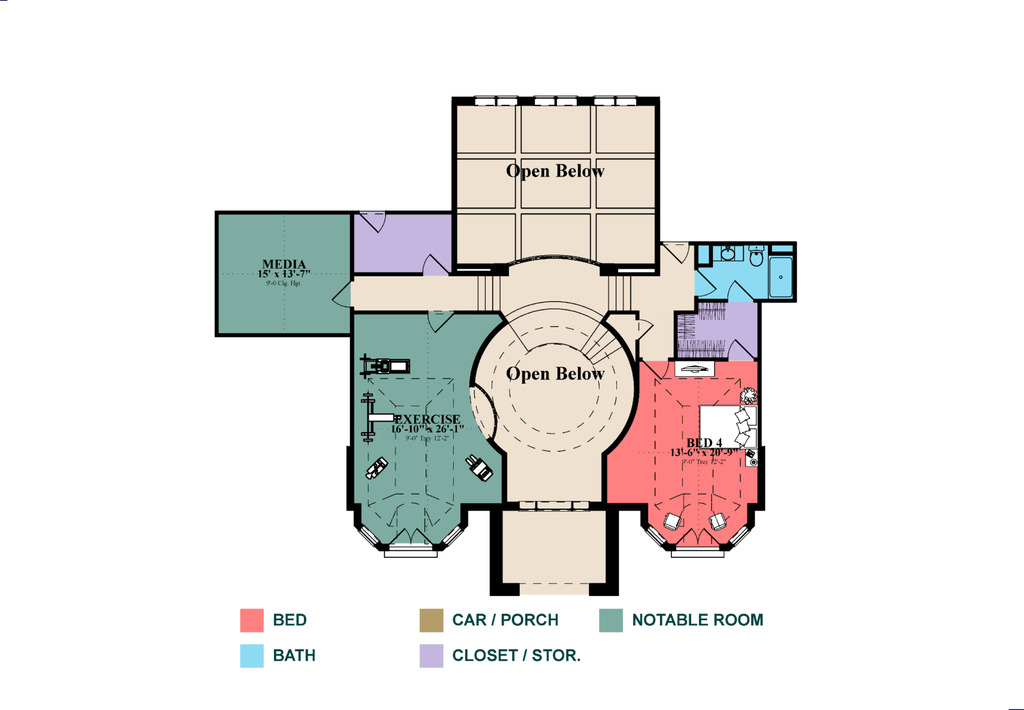bed: (696, 402, 762, 448)
door: (416, 308, 459, 333), (722, 336, 757, 366), (658, 240, 691, 266), (357, 204, 386, 233), (416, 253, 448, 279), (695, 267, 716, 299), (331, 281, 353, 309)
large_sink: (746, 239, 768, 273)
small_sink: (706, 245, 745, 263)
stairs: (471, 257, 634, 364)
tub: (766, 255, 795, 301)
windows: (471, 89, 637, 112), (514, 496, 589, 515), (380, 542, 436, 563)
